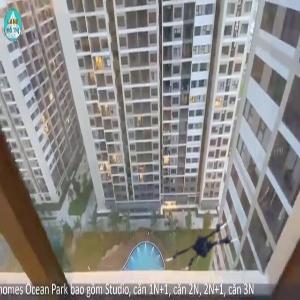drone: (161, 198, 243, 280)
